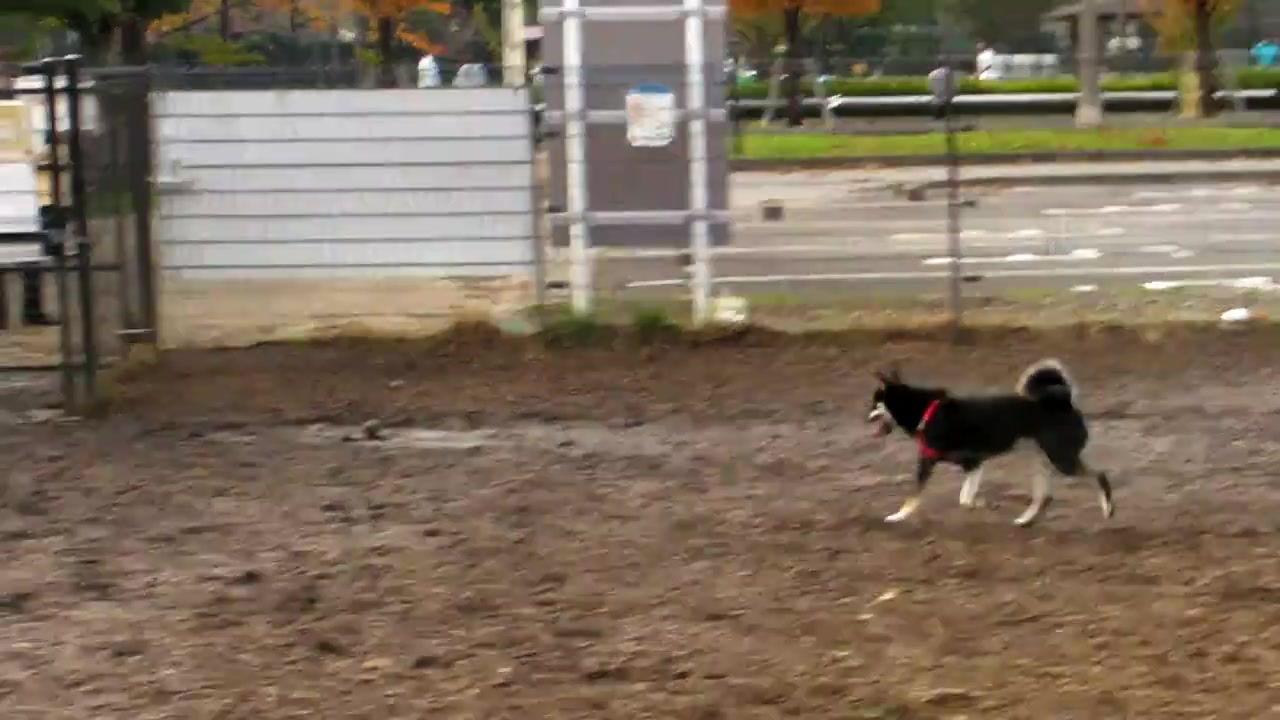dog: (859, 356, 1120, 526)
